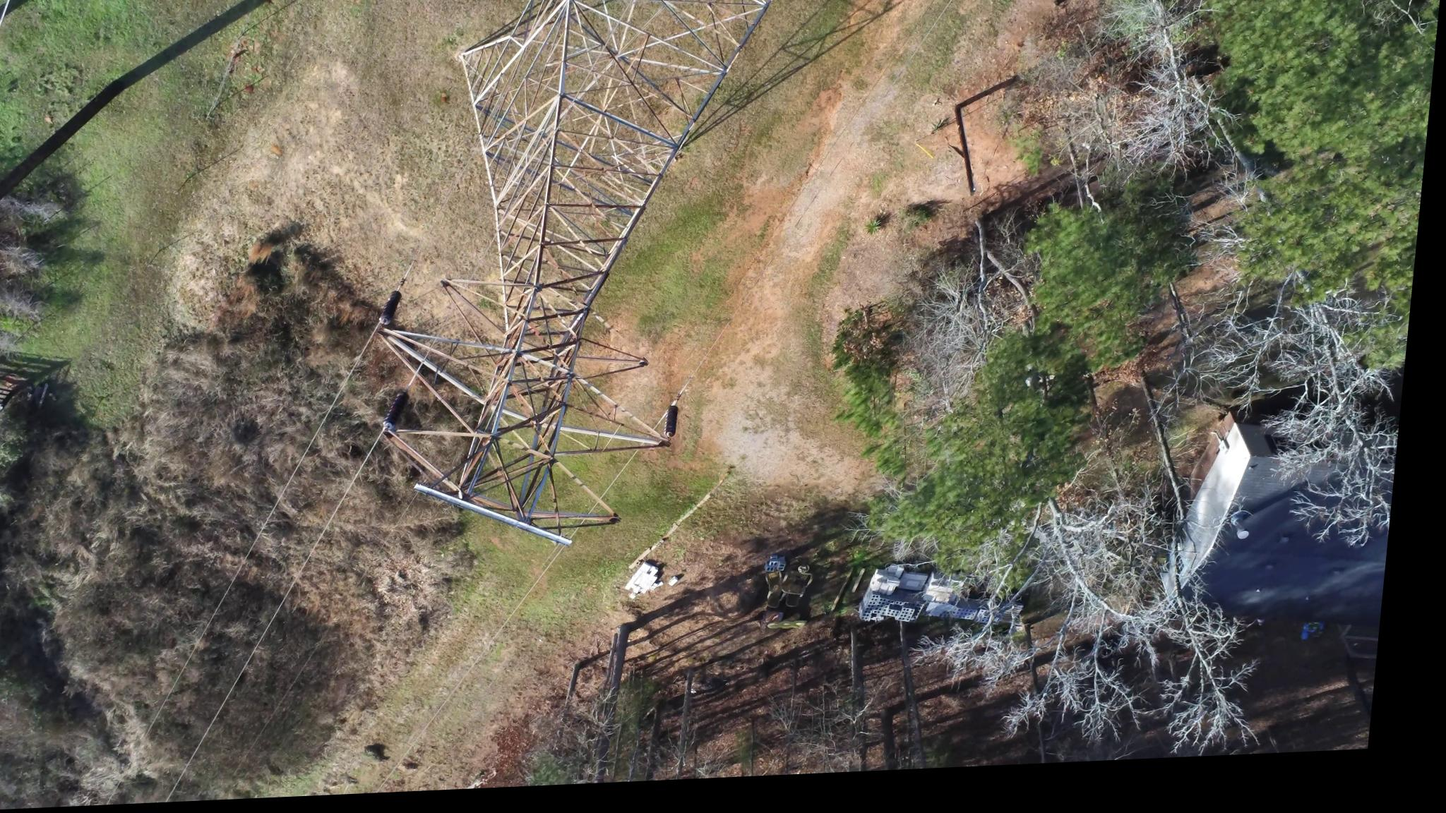tower: (353, 0, 794, 559)
